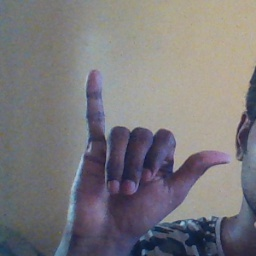J: (68, 68, 232, 235)
